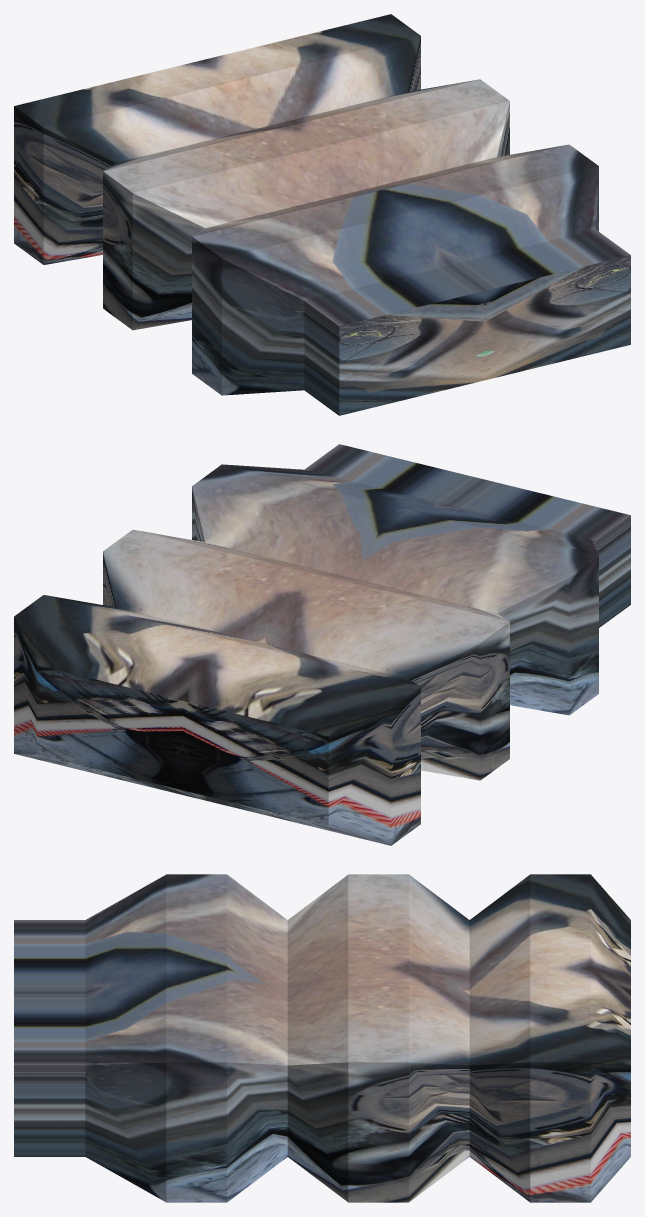
3 views of the same model, one above another, from view 1: azimuth 30°, elevation 25°; view 2: azimuth 150°, elevation 25°; view 3: azimuth 270°, elevation 25° (orthographic). The views are drawn at different scales.
Visible parts, largest first — view 1: Body-3.001_Cube.014; view 2: Body-3.001_Cube.014; view 3: Body-3.001_Cube.014.
Part boxes in pixels (x1=…): Body-3.001_Cube.014: x1=14, y1=14, x2=630, y2=415; Body-3.001_Cube.014: x1=14, y1=444, x2=630, y2=845; Body-3.001_Cube.014: x1=14, y1=874, x2=630, y2=1202.
Size of the model in its own units: 9.94 by 3.46 by 13.79.
